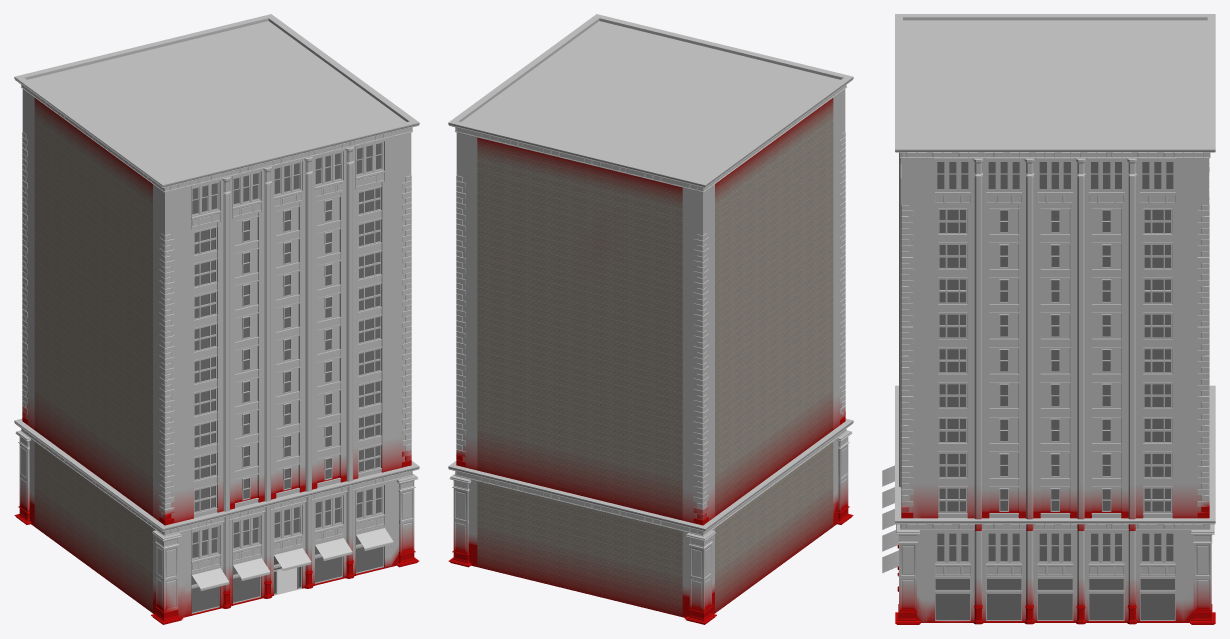
File: Building_Large_1.gltf
3 renders of one model, left to right at view 1: azimuth 30°, elevation 25°; view 2: azimuth 150°, elevation 25°; view 3: azimuth 270°, elevation 25°, orthographic. The views are drawn at different scales.
Parts seen in each view (by area): view 1: Building_Large_1; view 2: Building_Large_1; view 3: Building_Large_1.
Part boxes in pixels (<box>): Building_Large_1: <box>14,14,419,624</box>; Building_Large_1: <box>448,14,853,624</box>; Building_Large_1: <box>882,14,1215,624</box>.
Size of what is drawn, in the model's own units: 25.04 by 41 by 26.03.
